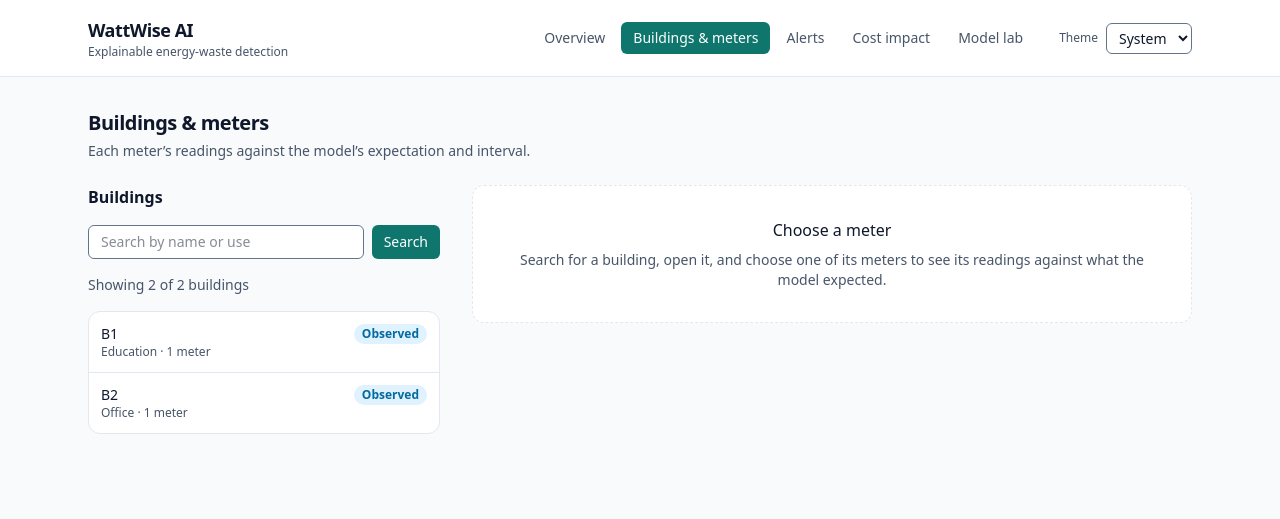
it: Explorer: when there is nothing to show › says so when the range has no expectation, and still shows the readings
The image size is (1280, 519).
Click the button "B1 Education · 1 meter Observed".
click(129, 352)  # box [101,324,427,360]
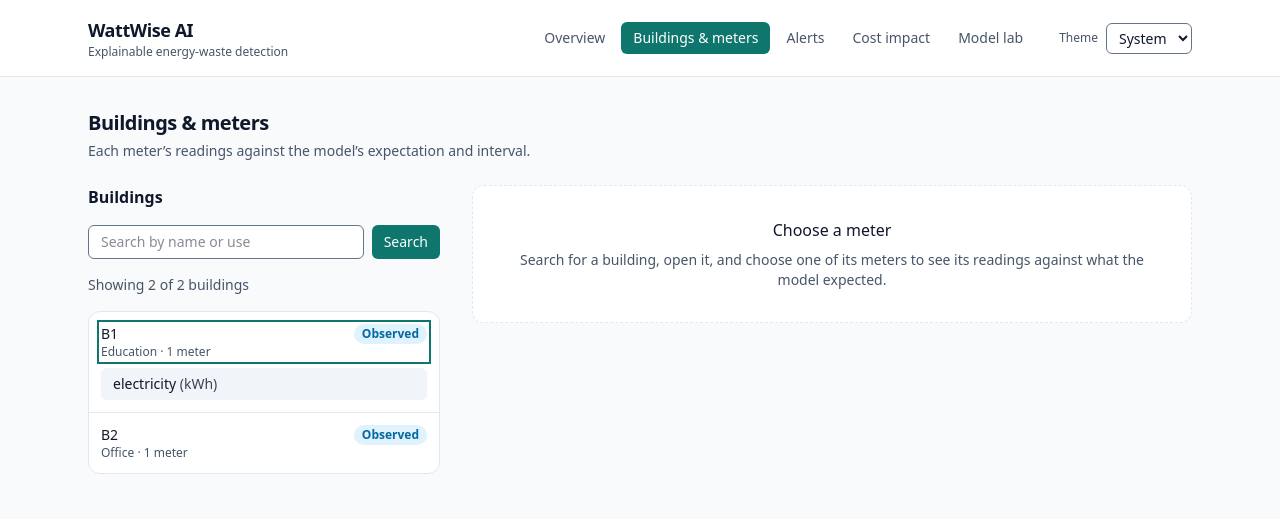
Click the button "electricity (kWh)".
click(145, 384)  # box [101,368,427,400]
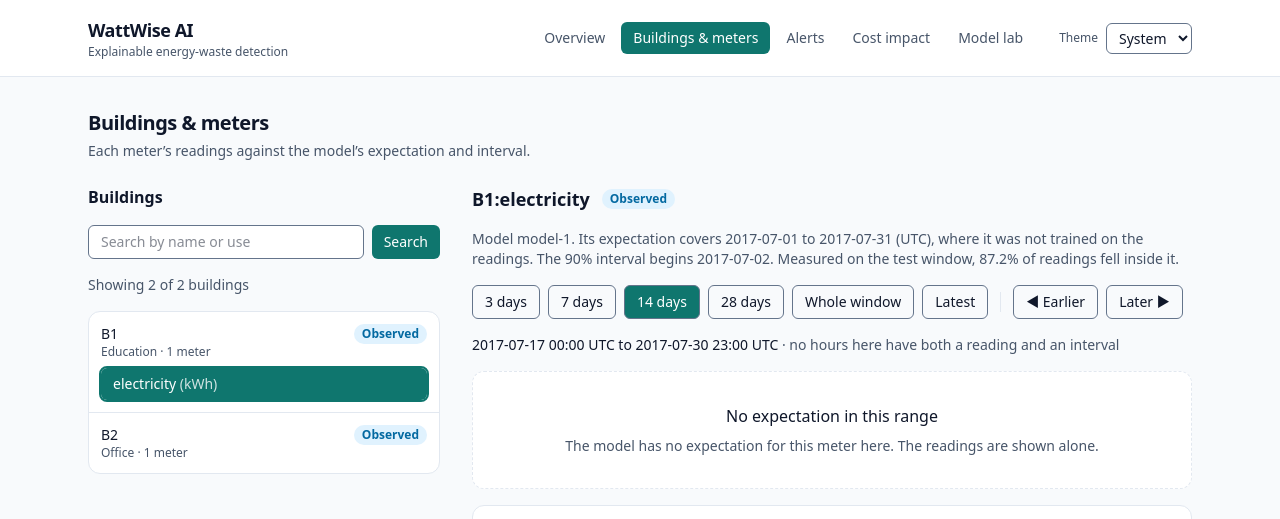
Now the text "No expectation in this range" is shown, box [726,405,938,427]
Now the text "· no hours here have both a reading and an interval" is shown, box [778,335,1120,354]
